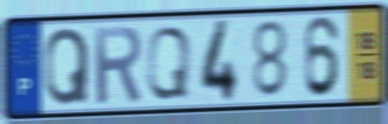4: (198, 16, 241, 106)
6: (302, 13, 341, 101)
8: (249, 18, 290, 100)
Q: (43, 25, 92, 109), (144, 23, 193, 102)
R: (90, 23, 144, 107)
